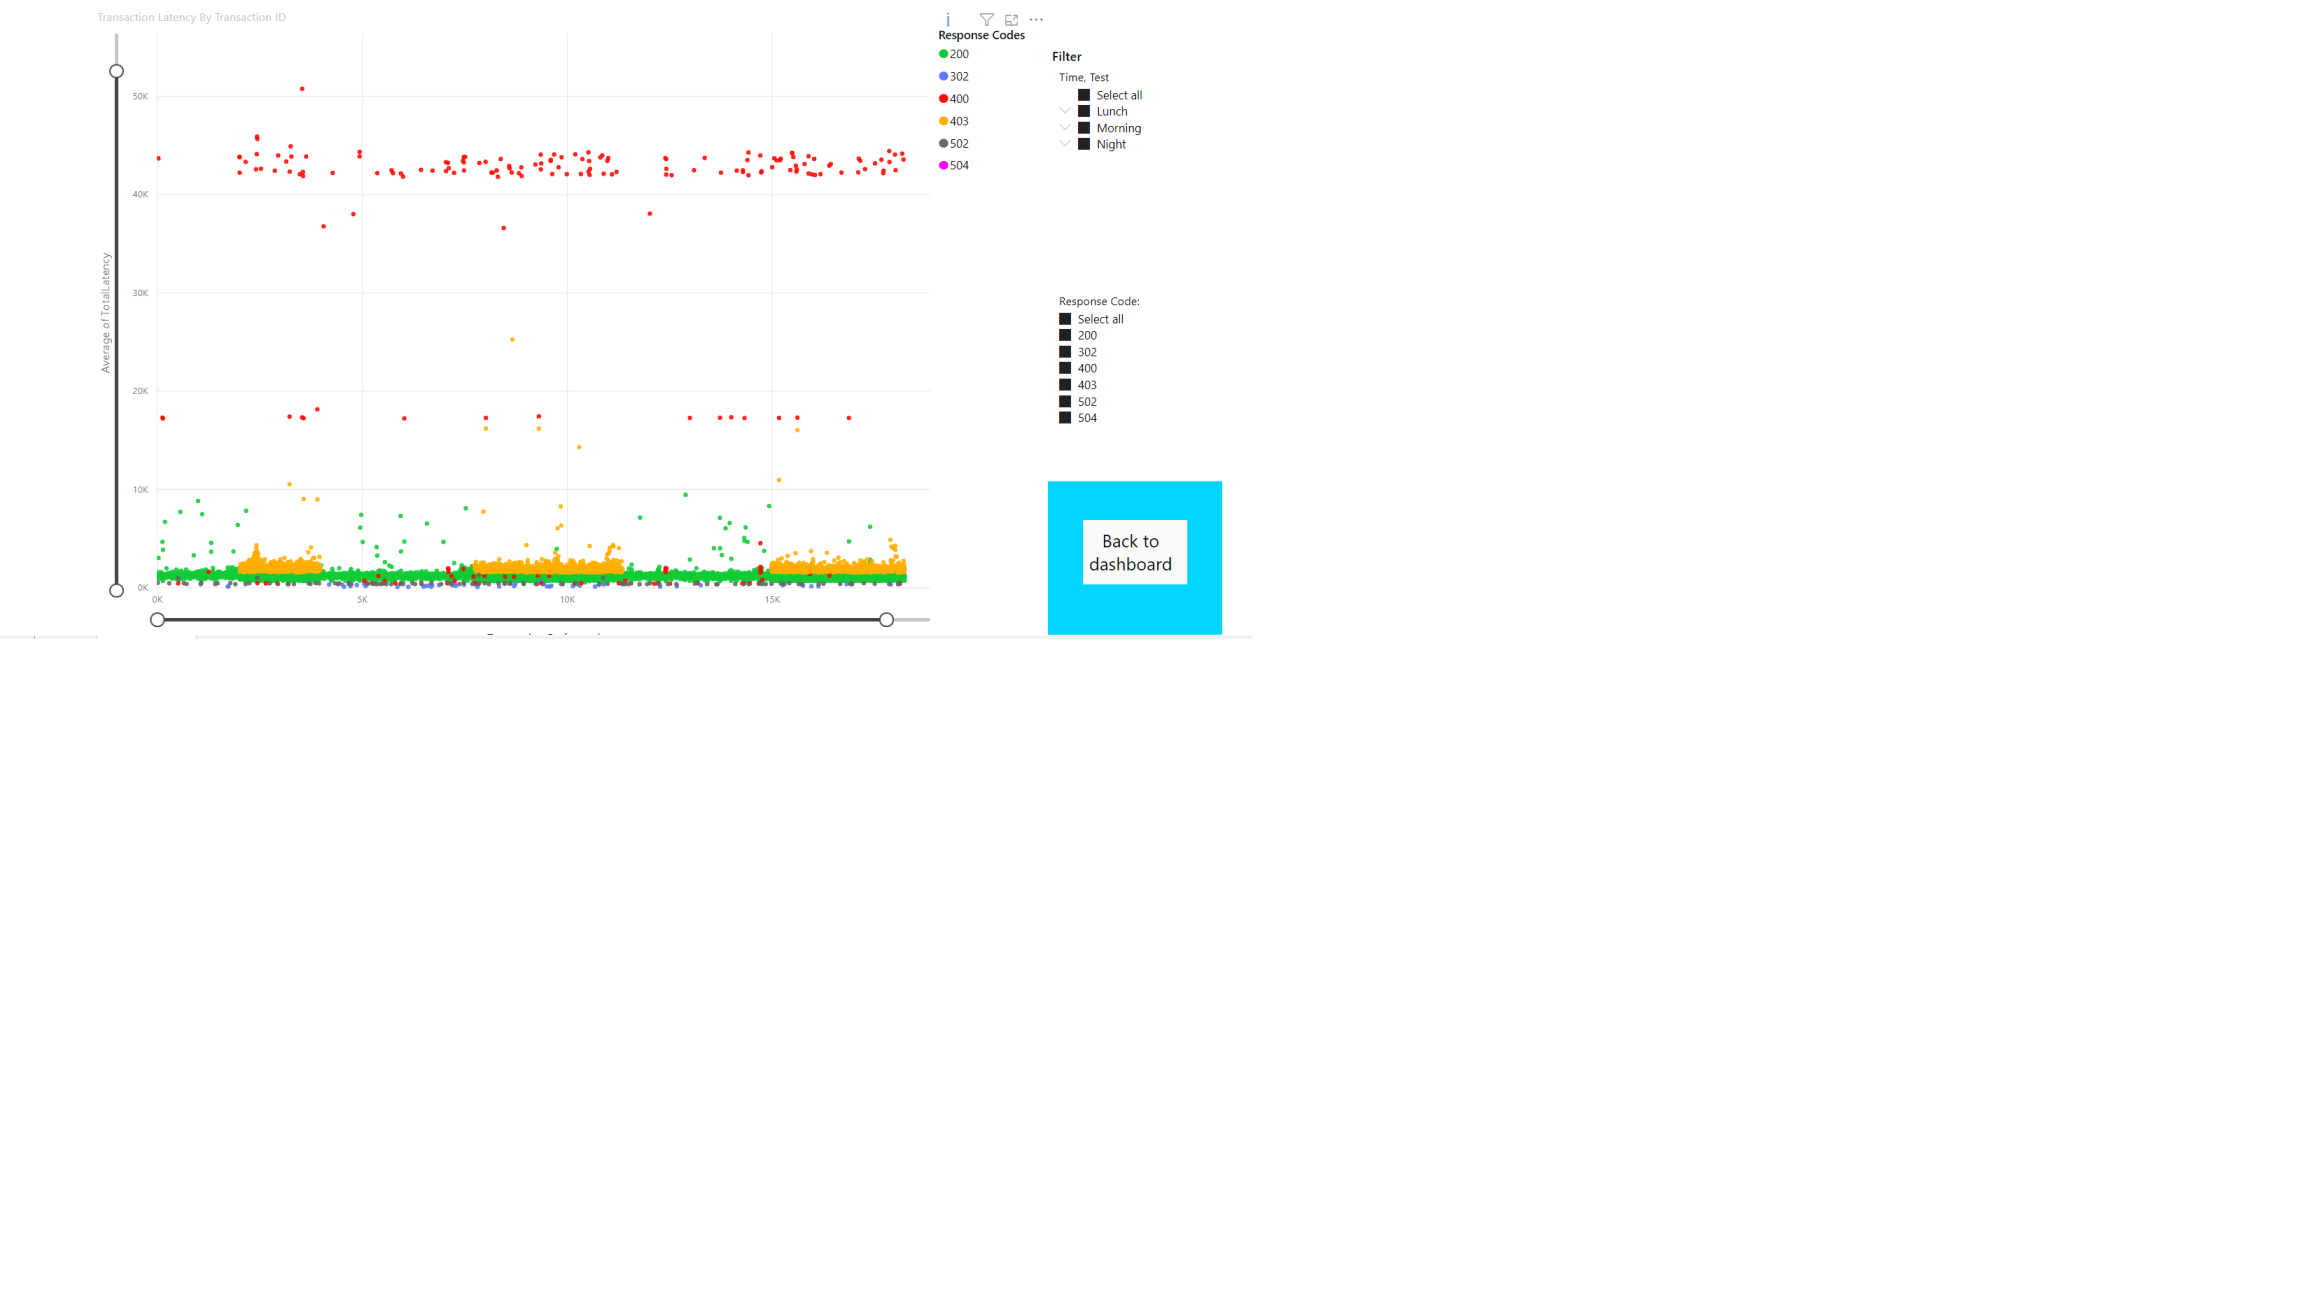

The page's visual inventory and layout, read from the dashboard file:
{"tool":"powerbi","page":{"name":"Page 2","canvas":[1280,720],"ordinal":1},"visuals":[{"type":"scatterChart","title":"Transaction Latency By Transaction ID","fields":{"Series":["PerformanceView.responseCode"],"Y":["Avg(PerformanceView.TotalLatency)"],"X":["PerformanceView.GlobalTransactionId"]},"box":[0,0,1081.9,720.1],"z":0},{"type":"shape","box":[1082,0,198,55],"z":0,"group":"g1"},{"type":"slicer","title":"Filter","fields":{"Values":["PerformanceView.TimeCategory","PerformanceView.TestId"]},"box":[1082,44,198,284],"z":1000,"group":"g1"},{"type":"actionButton","box":[1116,570,130,129],"z":1000},{"type":"slicer","fields":{"Values":["PerformanceView.responseCode"]},"box":[1082,317,198,219],"z":2000,"group":"g1"},{"type":"group","id":"g1","title":"Group 1","box":[1082,0,198,536],"z":3004}]}

Visuals, with their boxes in screenshot pixels (x1, y1, x2, y2), scaled from the page's 1280x720 canvas onto the 2304x1296 screenshot:
"Transaction Latency By Transaction ID" scatterChart: BBox(0, 0, 1947, 1295)
shape: BBox(1948, 0, 2303, 99)
"Filter" slicer: BBox(1948, 79, 2303, 590)
actionButton: BBox(2009, 1026, 2243, 1258)
slicer - PerformanceView.responseCode: BBox(1948, 571, 2303, 965)
"Group 1" group: BBox(1948, 0, 2303, 965)
